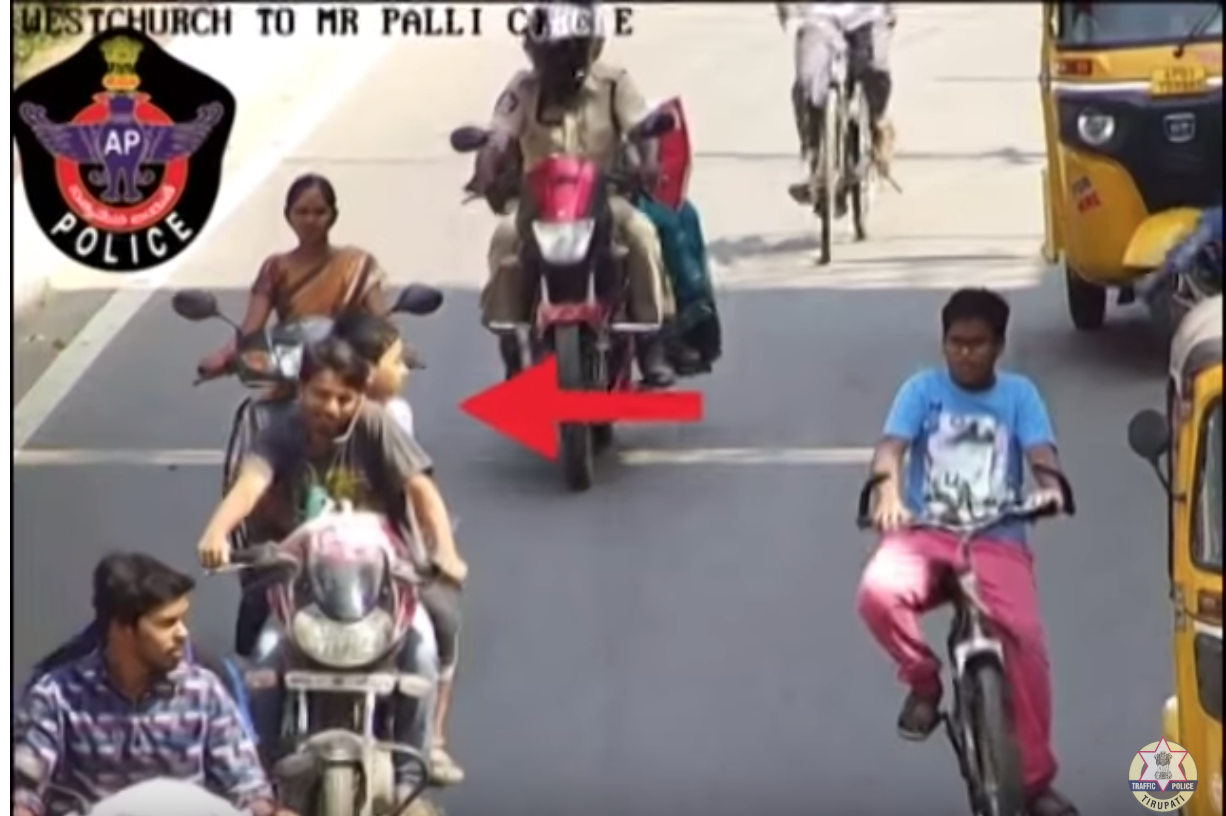h_bike: (240, 342, 441, 816), (469, 94, 685, 360)
h_nohelmet: (88, 555, 201, 684), (296, 331, 369, 444), (282, 171, 348, 258)
numplate: (288, 663, 398, 700)
